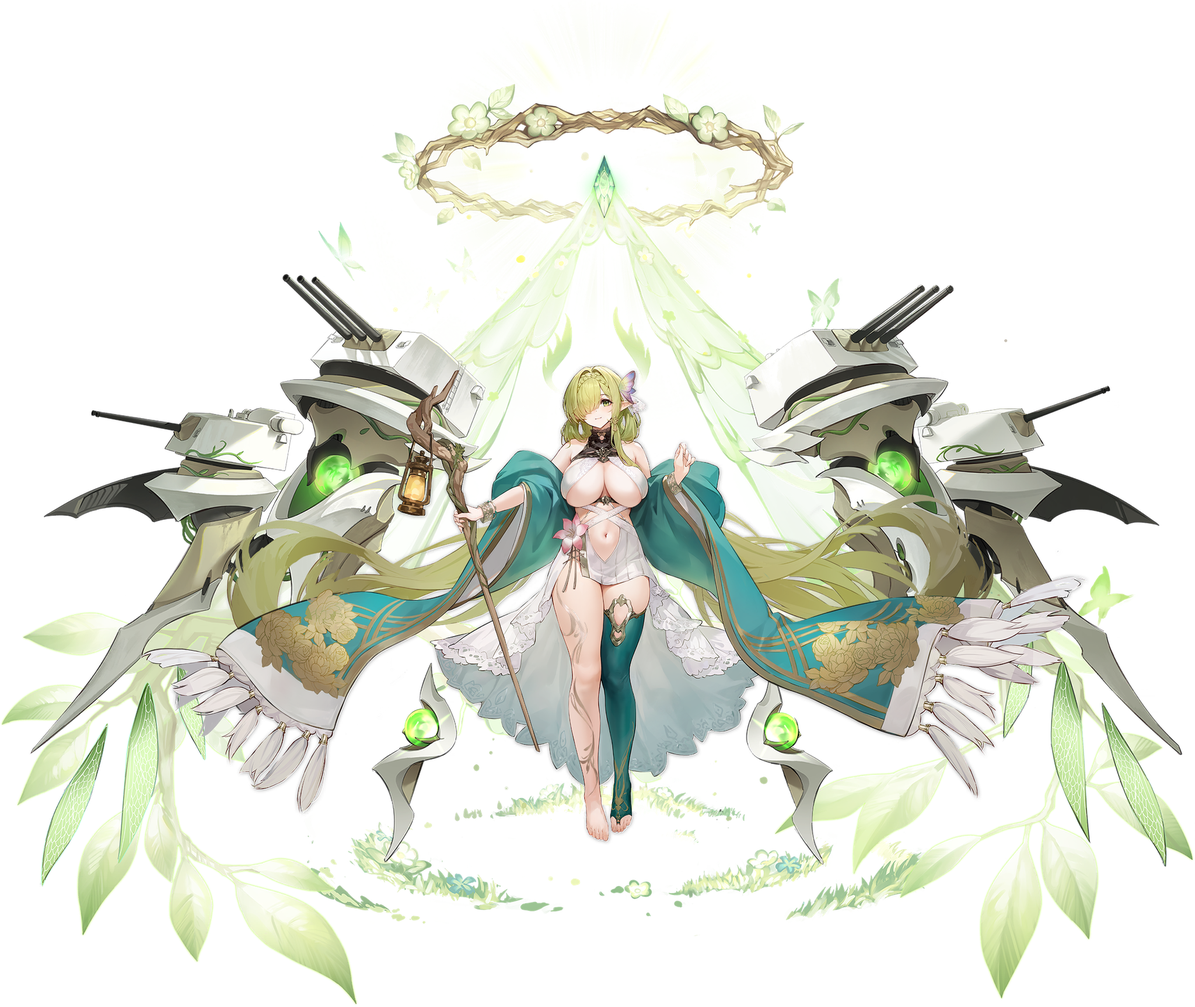person: (485, 307, 723, 860)
